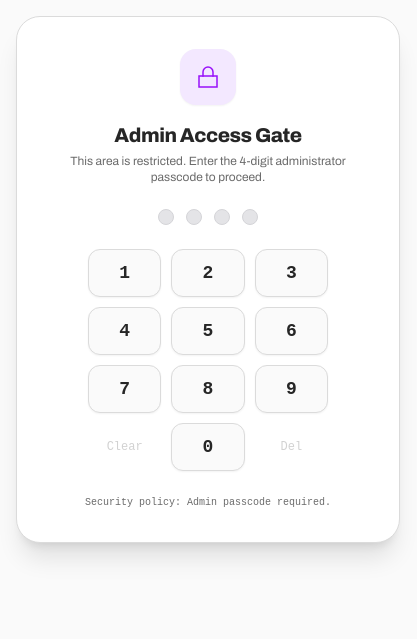
Test: Double Security Scan: Authentication, PIN Gate & Data Hygiene › Scan 1: Admin Passcode '0000' & Access Control Gate › rejects invalid passcodes and shows error feedback
This screenshot has width=417, height=639.
Click the button "1". click: (125, 273)
box: [88,249,161,297]
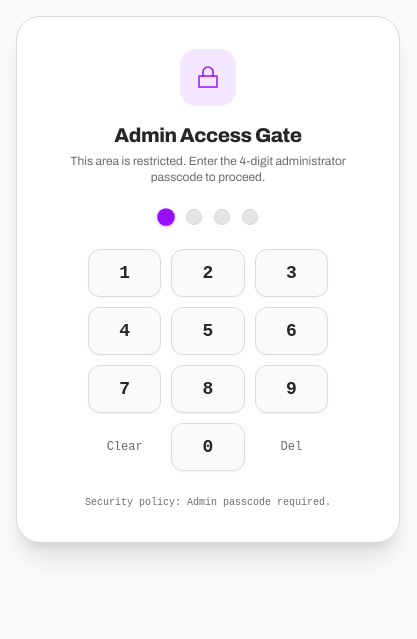
Click the button "2". click: (208, 273)
box: [171,249,245,297]
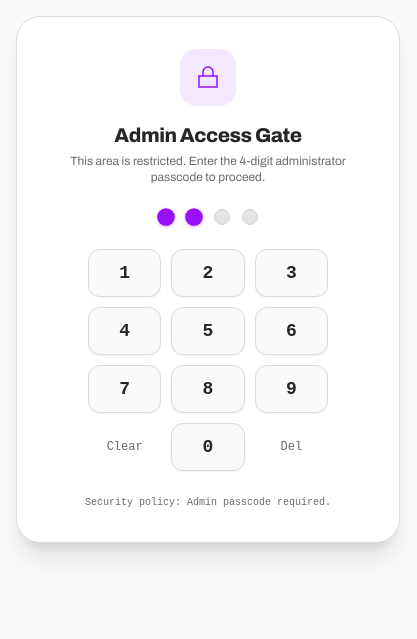
Click the button "3". click: (291, 273)
box: [255,249,328,297]
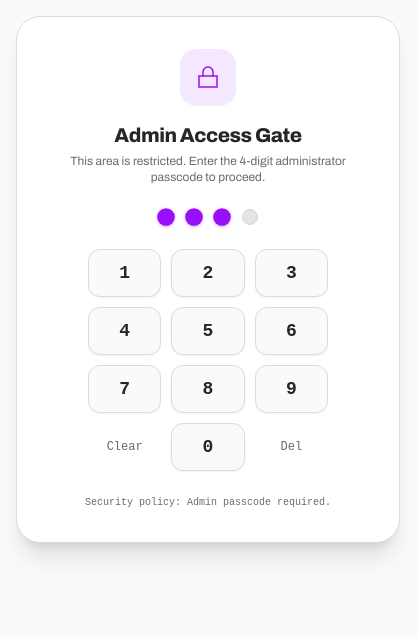
Click the button "4". click: (125, 331)
box: [88,307,161,355]
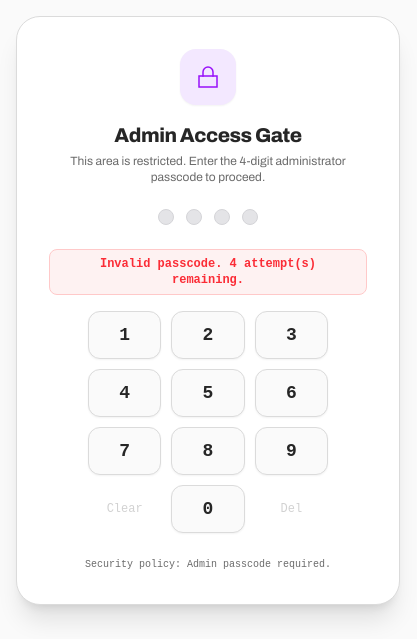
Check: the text "Invalid passcode. 4 attempt(s) remaining." is shown, box [49,249,367,295]
